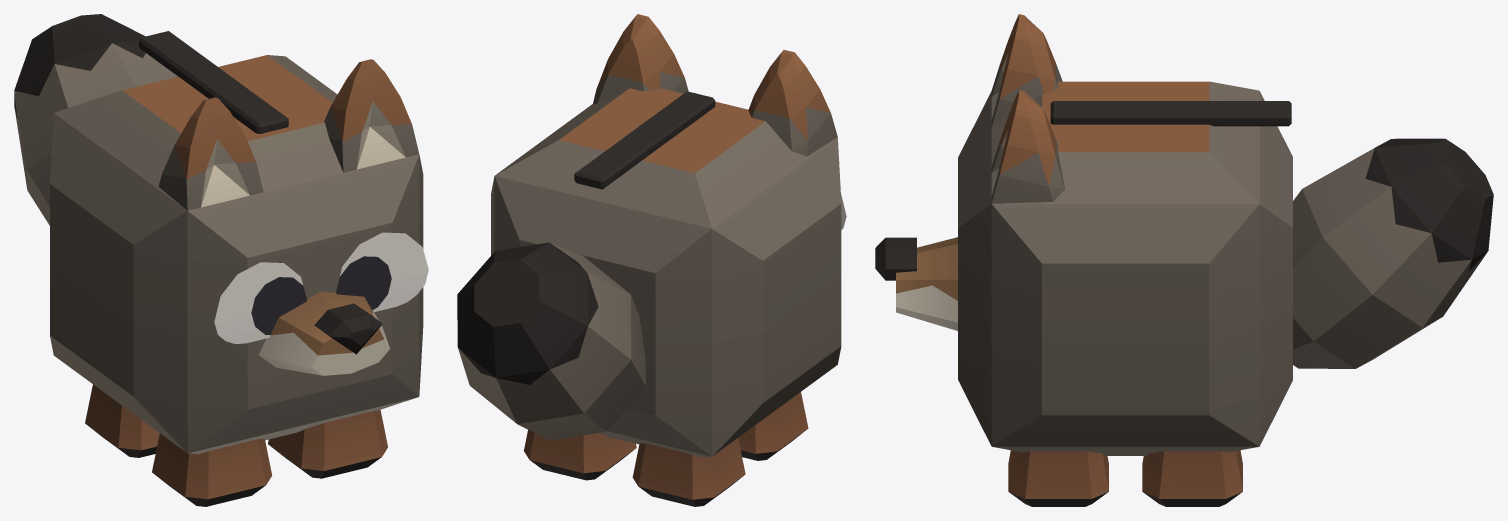
File: cachorro-do-mato.glb
3 renders of one model, left to right at view 1: azimuth 30°, elevation 25°; view 2: azimuth 150°, elevation 25°; view 3: azimuth 270°, elevation 25°, orthographic. The views are drawn at different scales.
Parts seen in each view (by area): view 1: head, body, tail, leg-front-right, leg-front-left, leg-back-right; view 2: body, tail, head, leg-back-right, leg-back-left, leg-front-right; view 3: body, head, tail, leg-front-left, leg-back-left.
Boxes of the visible parts, box(x1,y1,x2,y2) form: head: box(133, 59, 428, 454); body: box(50, 31, 337, 434); tail: box(14, 14, 177, 225); leg-front-right: box(152, 433, 272, 506); leg-front-left: box(268, 410, 387, 478); leg-back-right: box(85, 384, 159, 457); body: box(491, 37, 841, 457); tail: box(457, 242, 645, 440); head: box(605, 14, 846, 381); leg-back-right: box(632, 438, 745, 506); leg-back-left: box(524, 430, 636, 480); leg-front-right: box(738, 392, 808, 460); body: box(1042, 32, 1292, 455); head: box(875, 14, 1041, 452); tail: box(1293, 138, 1493, 368); leg-front-left: box(1008, 450, 1108, 506); leg-back-left: box(1142, 450, 1242, 506).
Bounding box in the file's own units: 1.25 × 1.69 × 2.31.
Materials: 1 (1 with a texture image).
